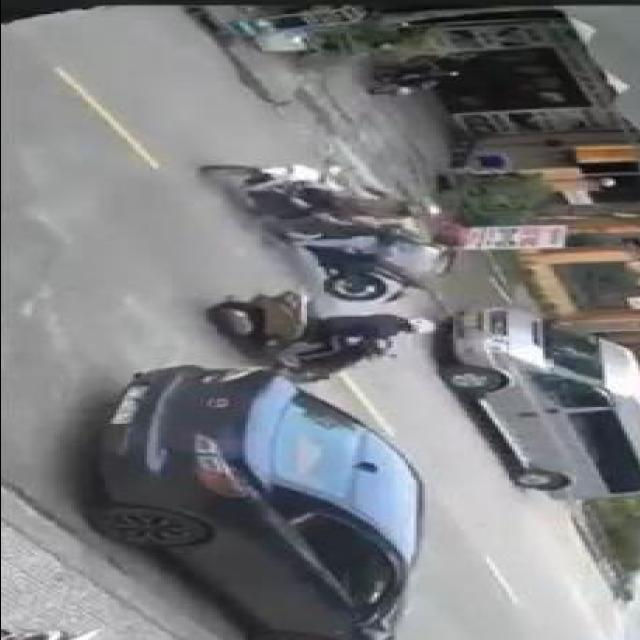accident: (193, 161, 479, 305)
